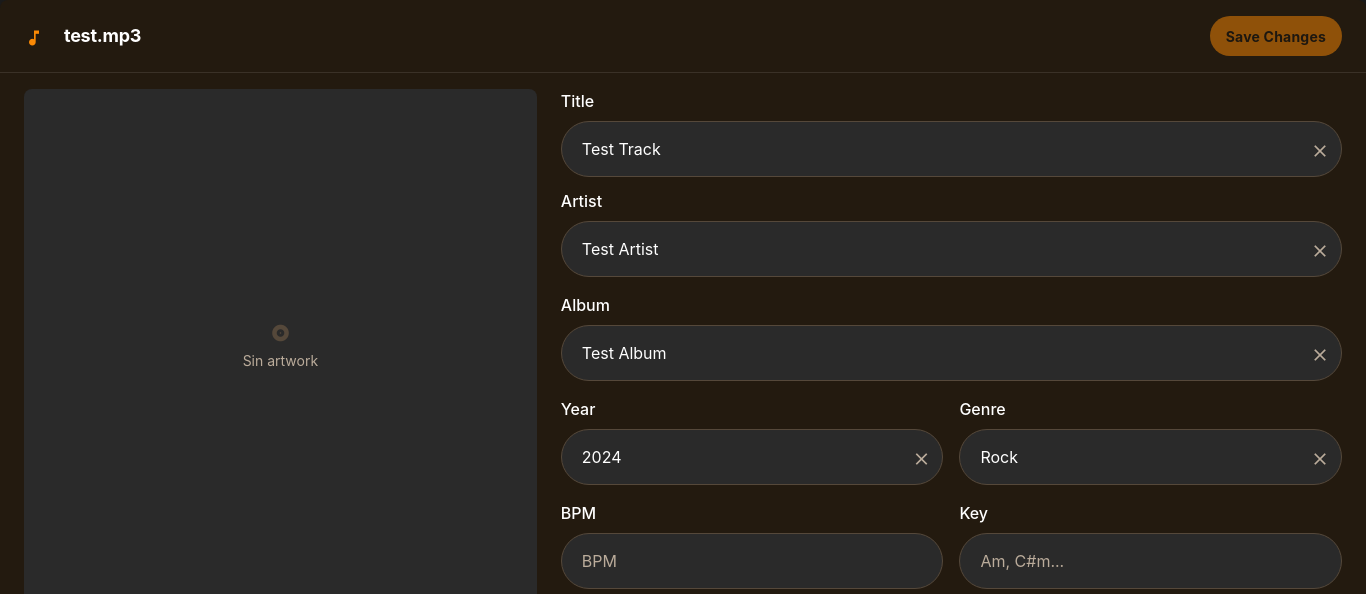
it: TrackDetail › debería mostrar mensaje de éxito después de guardar
Editar y guardar
Replace the text in the field with placeholder "Title" below "Title" with "Track Editado" at (951, 149), box left=561, top=121, right=1342, bottom=177
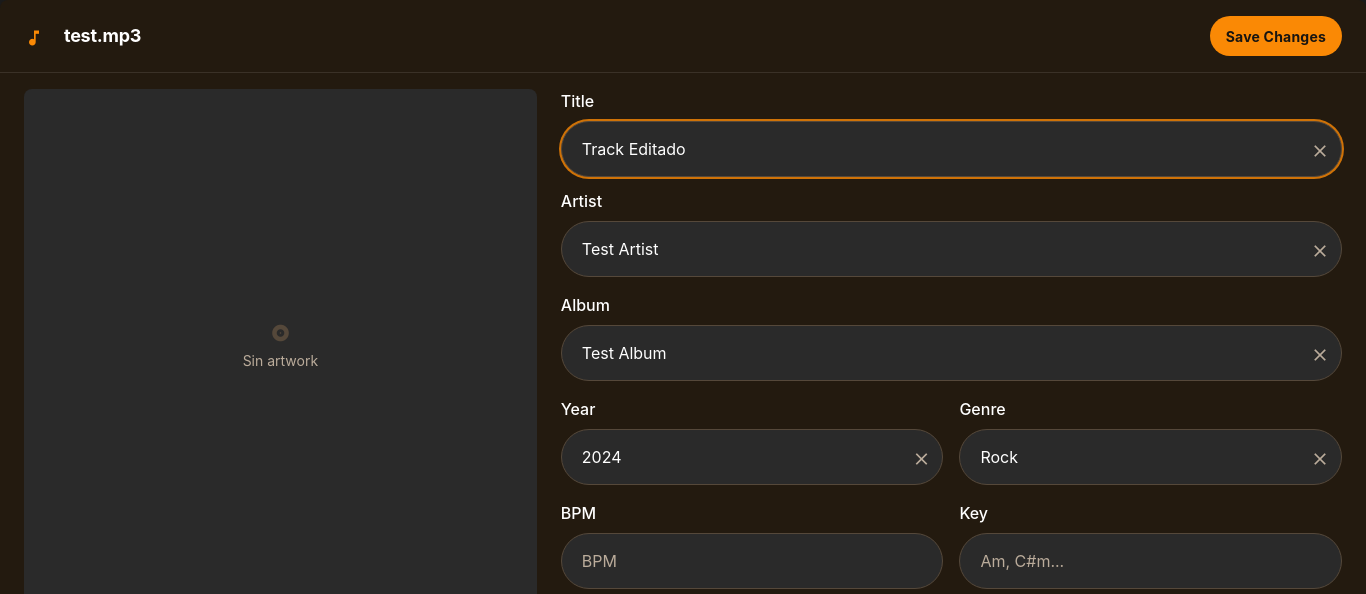
Click the button "Save Changes" at (1276, 36), box left=1210, top=16, right=1342, bottom=56
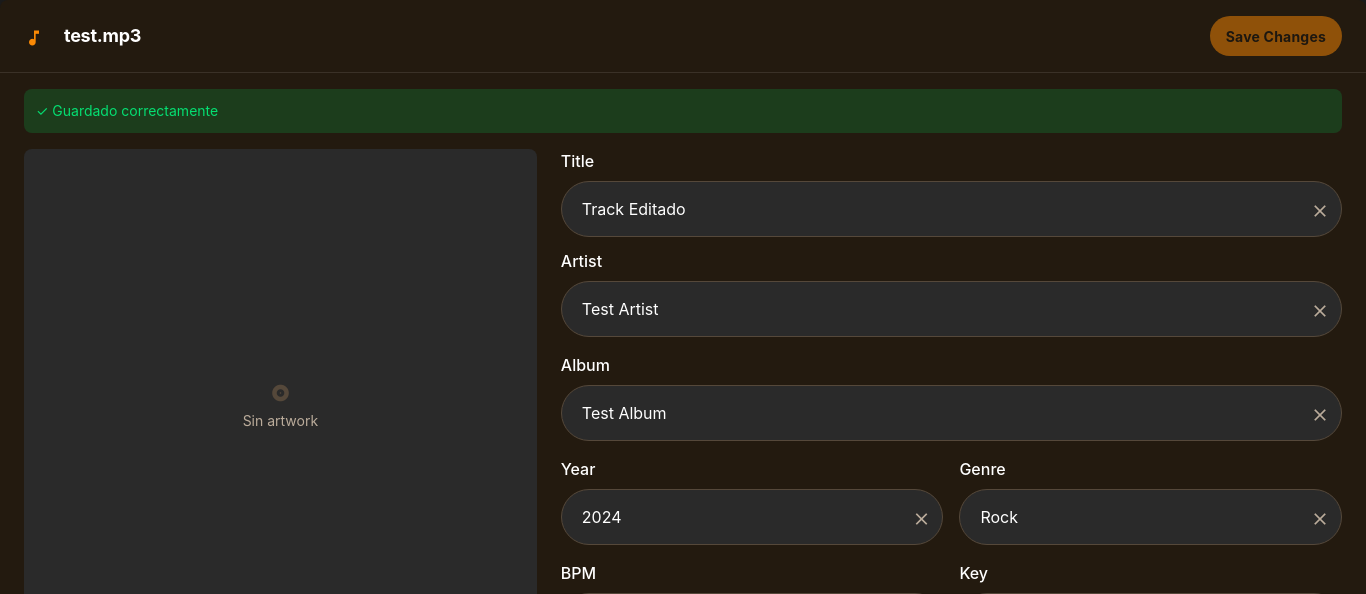
expect the text "✓ Guardado correctamente" is shown: met, box left=24, top=89, right=1342, bottom=133
